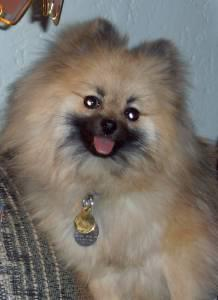dog-pomeranian: (56, 17, 173, 157)
